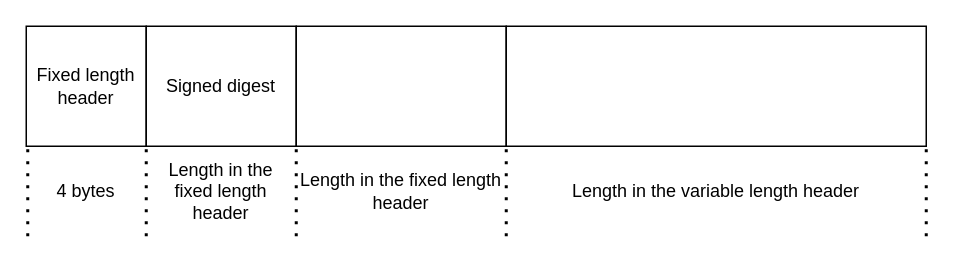
Some shapes in this 956 by 266 pixel diagram are drawn without their labels. Each missing label, with the centre of its shape:
Content: (x=715, y=85)
Variable length header: (x=400, y=85)
